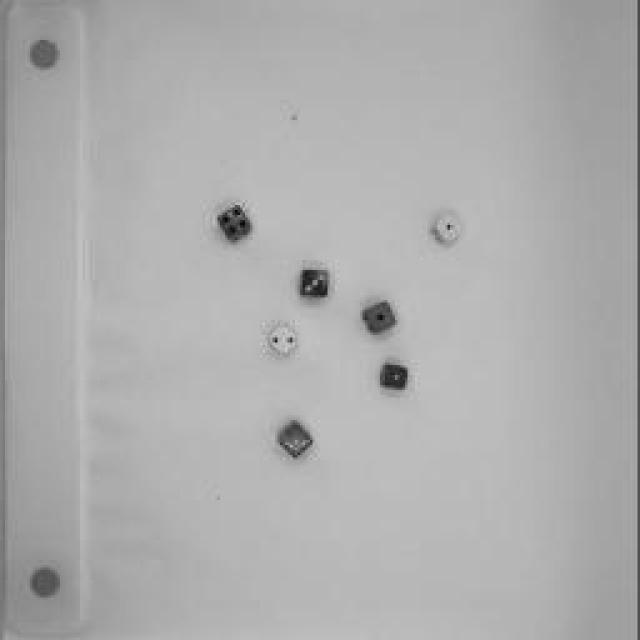dice_1: (274, 420, 321, 462), (427, 205, 465, 250), (361, 295, 399, 335), (381, 358, 414, 394)
dice_2: (263, 321, 305, 359)
dice_3: (298, 266, 338, 304)
dice_4: (215, 200, 255, 245)
